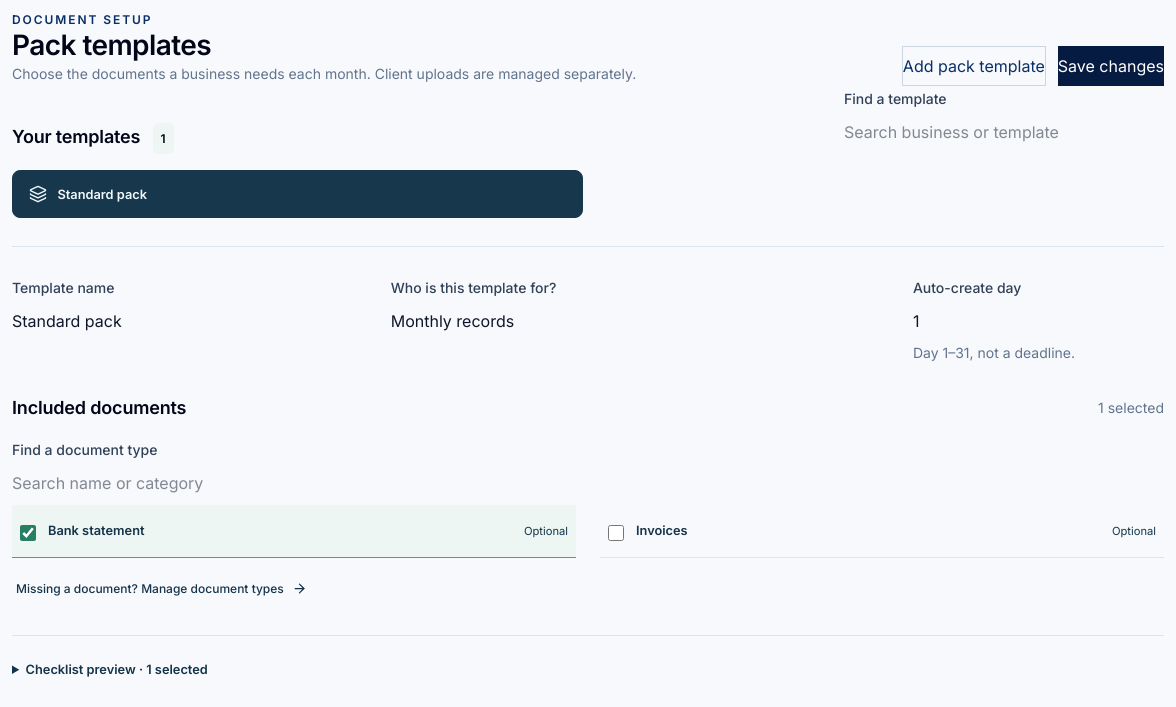
admin monthly packs › validates an incomplete template even after switching away
Expected: the field showing "Standard pack" is shown, [12, 299, 371, 343]
Click the button "Add pack template" at [974, 66], box [902, 46, 1046, 86]
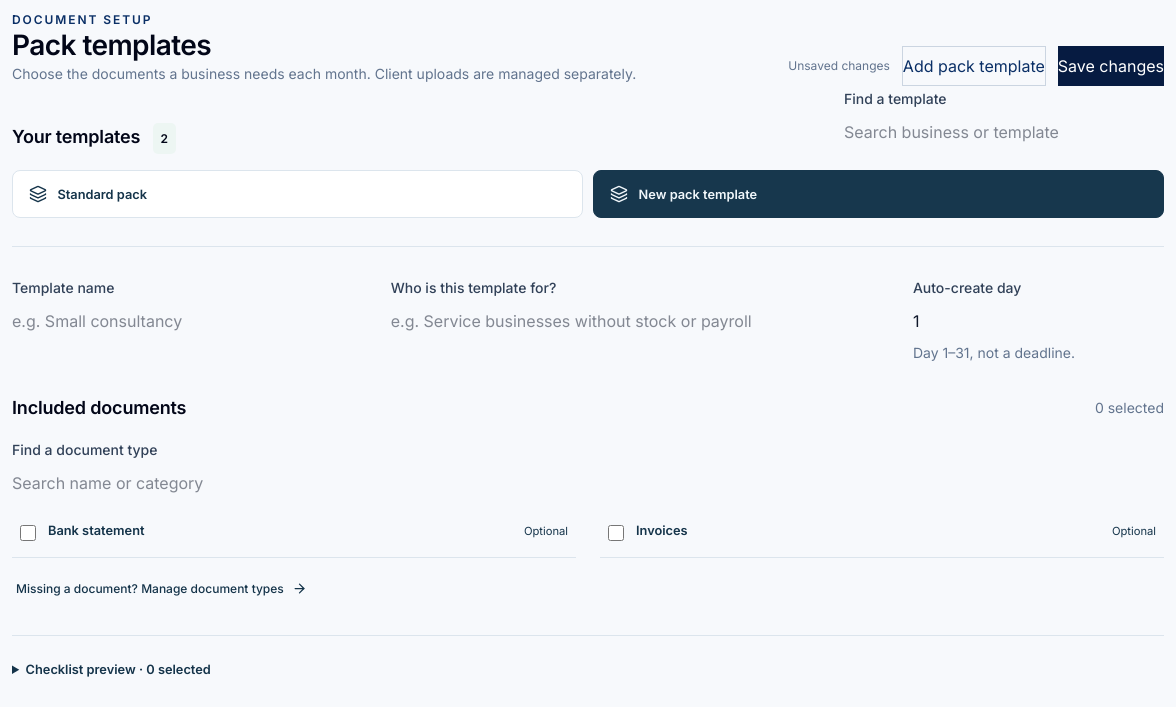
Click the button "Standard pack" at [102, 194], box [12, 170, 583, 218]
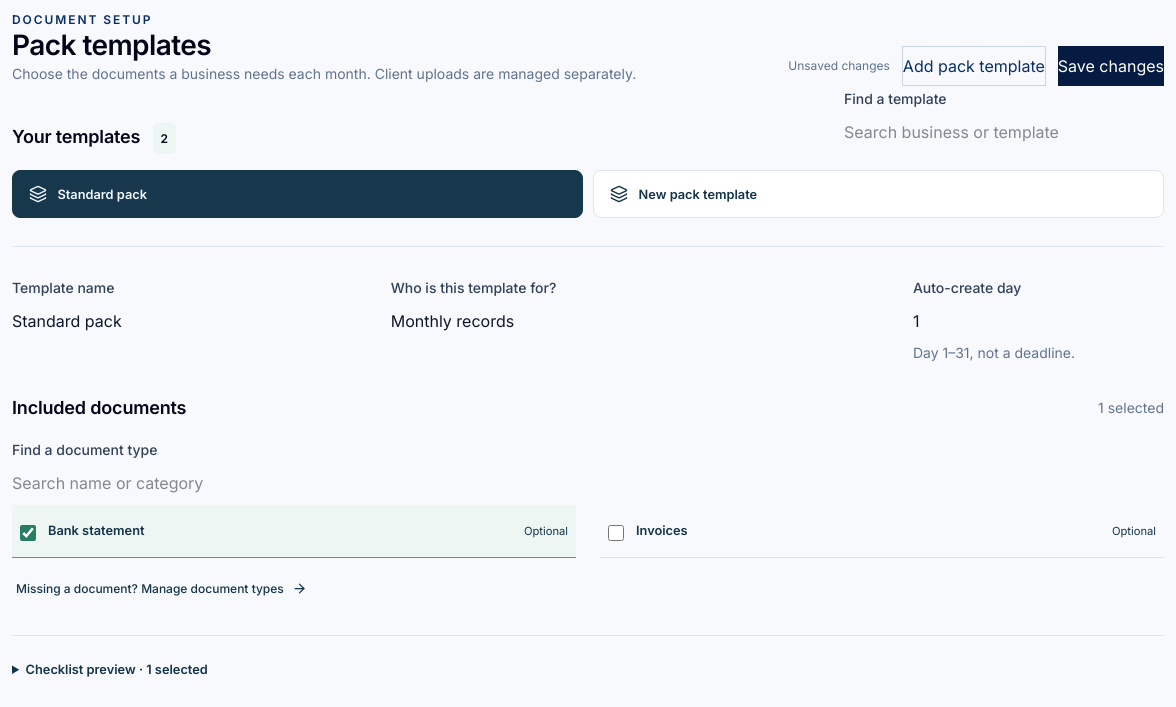
Click the button "Save changes" at [1111, 66], box [1058, 46, 1164, 86]
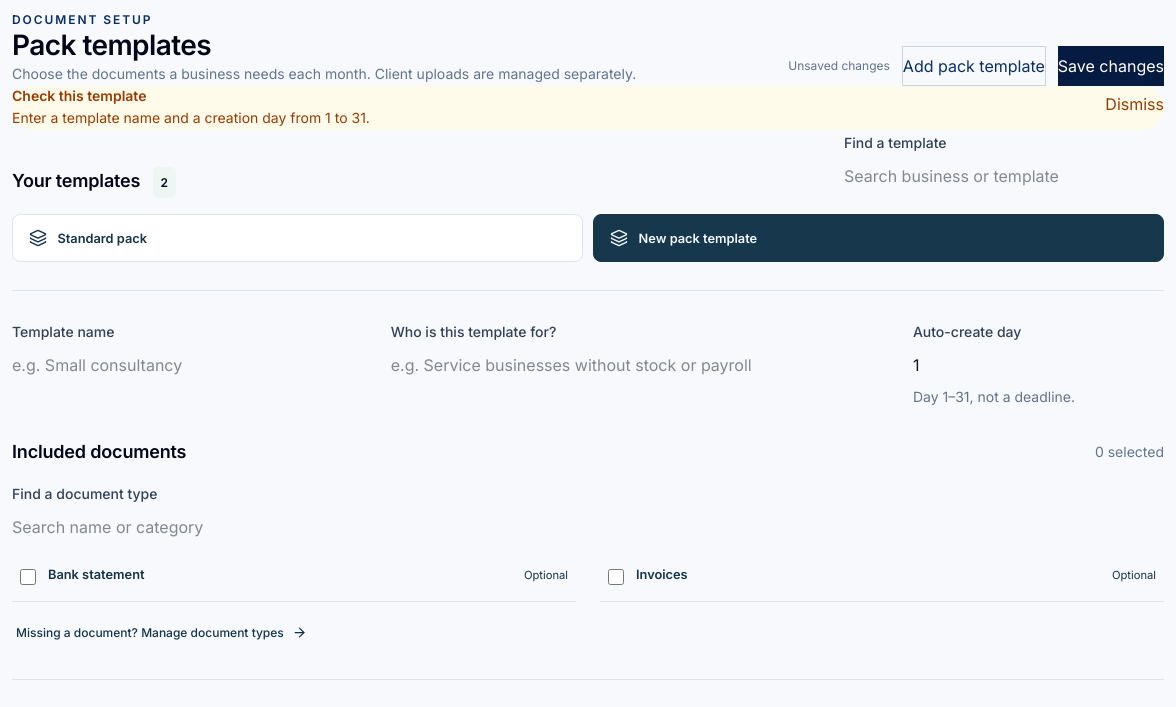
Expected: the text "Check this template" is shown, [12, 87, 146, 104]
Expected: the field labelled "Template name" is empty, [12, 343, 371, 387]
